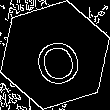O_N: (26, 24, 84, 86)
